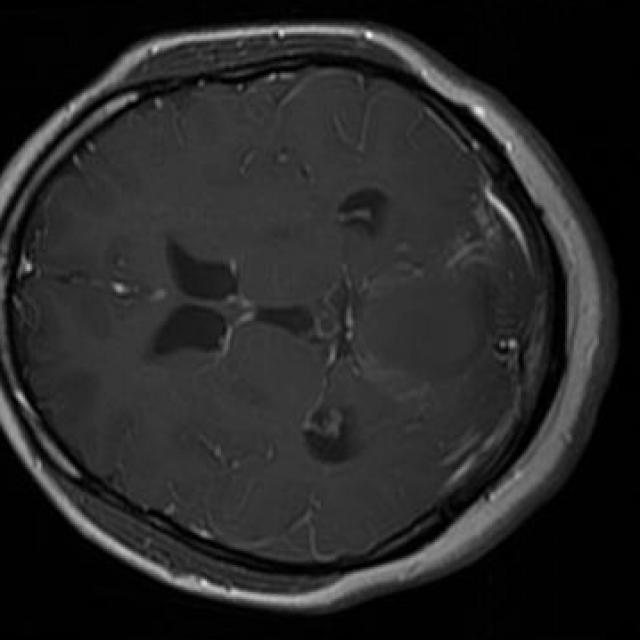glioma: (360, 242, 488, 401)
